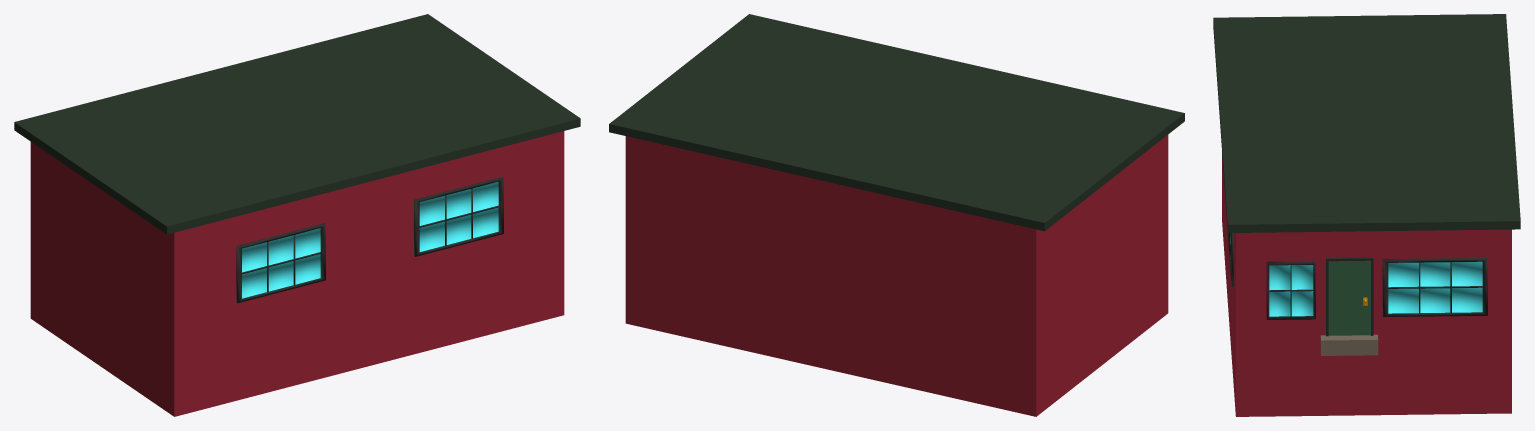
File: Buisnessservices_compressed.glb
The picture shows the model from 3 angles, left to right: view 1: azimuth 30°, elevation 25°; view 2: azimuth 150°, elevation 25°; view 3: azimuth 270°, elevation 25°; orthographic projection.
Visible parts, largest first — view 1: Cube.293, Cube.294; view 2: Cube.293; view 3: Cube.293, Cube.294, Cube.297, Cube.296.
Boxes of the visible parts, left/top/right/bottom form: Cube.293: left=14, top=14, right=580, bottom=416; Cube.294: left=236, top=176, right=503, bottom=303; Cube.293: left=609, top=14, right=1184, bottom=416; Cube.293: left=1213, top=14, right=1520, bottom=416; Cube.294: left=1222, top=152, right=1487, bottom=336; Cube.297: left=1328, top=260, right=1370, bottom=335; Cube.296: left=1320, top=334, right=1378, bottom=355.
Size of the model in its own units: 2.97 by 1.3 by 1.83.
